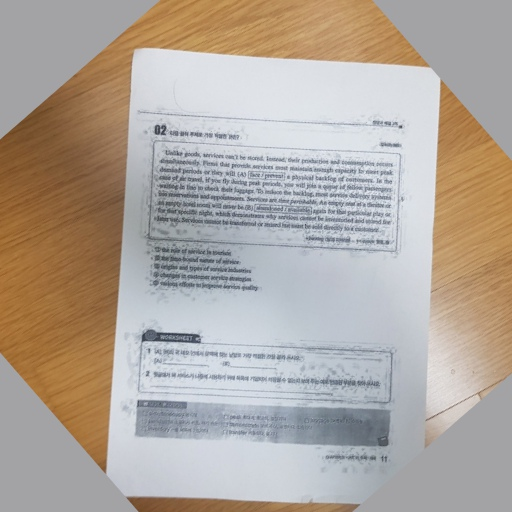Paper_2: (100, 43, 441, 505)
